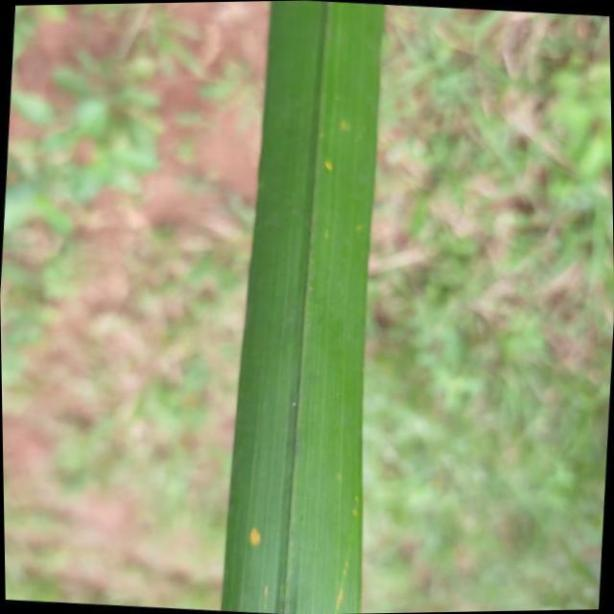Kalium: (221, 0, 385, 614)
